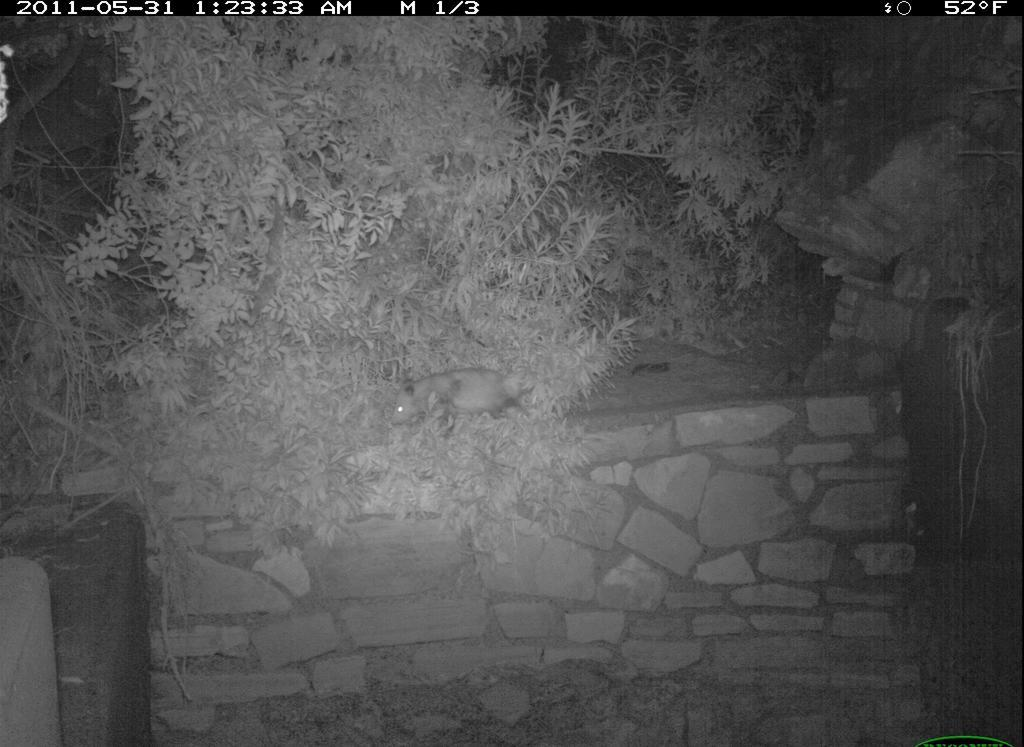opossum: (382, 349, 543, 438)
